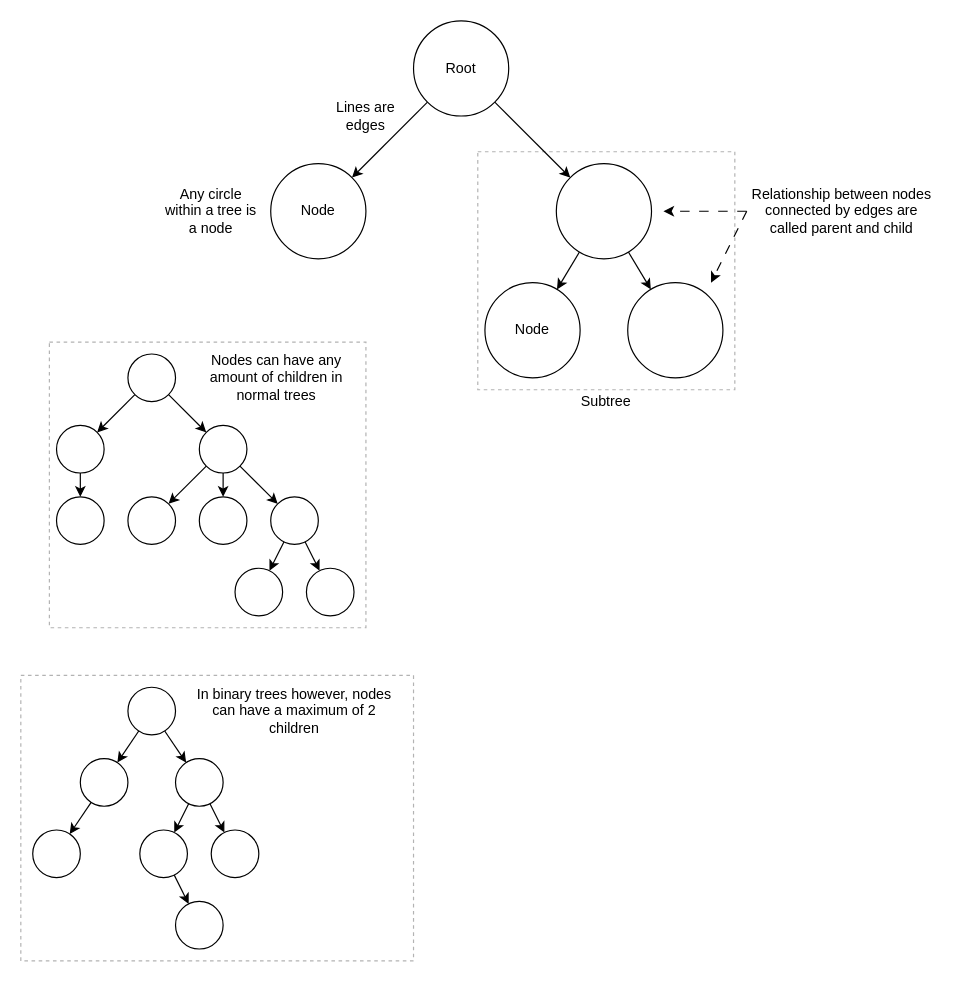
This 958x982 diagram has some shape labels left out. Each missing label, with the centre of its shape:
"Child" goes at (x=675, y=329).
"Parent" goes at (x=603, y=210).
